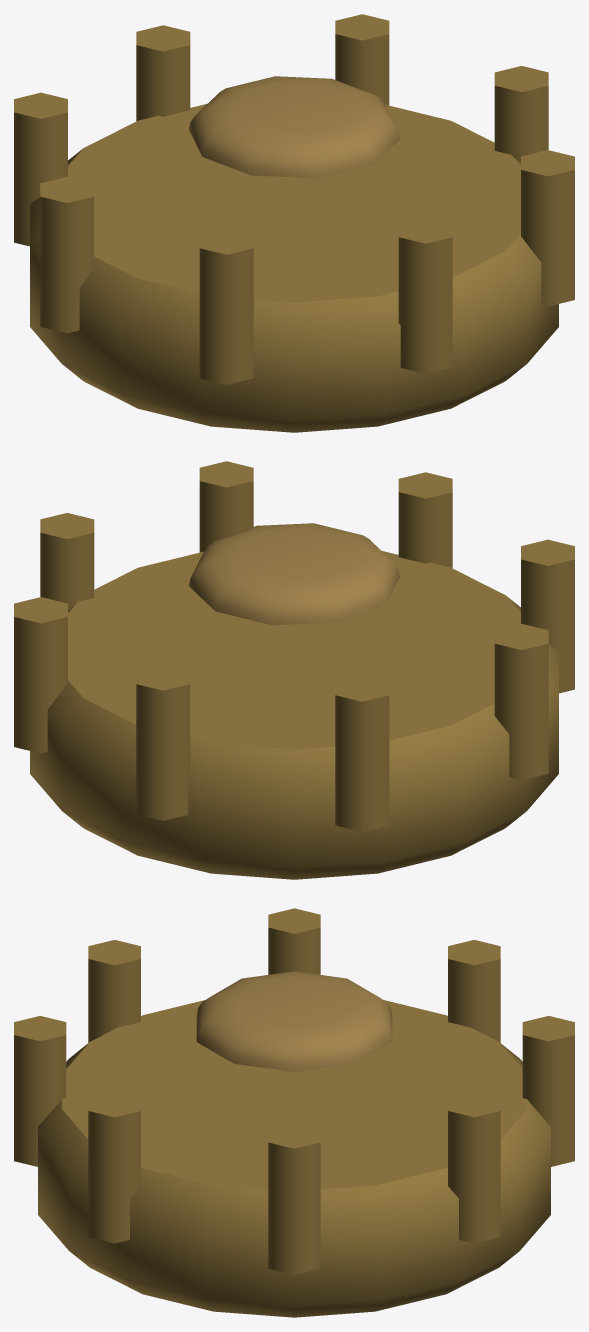
Rendered from mooncake.obj.
3 views of the same model, one above another, from view 1: azimuth 30°, elevation 25°; view 2: azimuth 150°, elevation 25°; view 3: azimuth 270°, elevation 25° (orthographic). The views are drawn at different scales.
Parts seen in each view (by area): view 1: mooncake; view 2: mooncake; view 3: mooncake.
Boxes of the visible parts, x1=… form: mooncake: x1=14, y1=14, x2=574, y2=432; mooncake: x1=14, y1=461, x2=574, y2=879; mooncake: x1=14, y1=908, x2=574, y2=1317.
Bounding box in the file's own units: 1.88 × 0.79 × 1.85.
